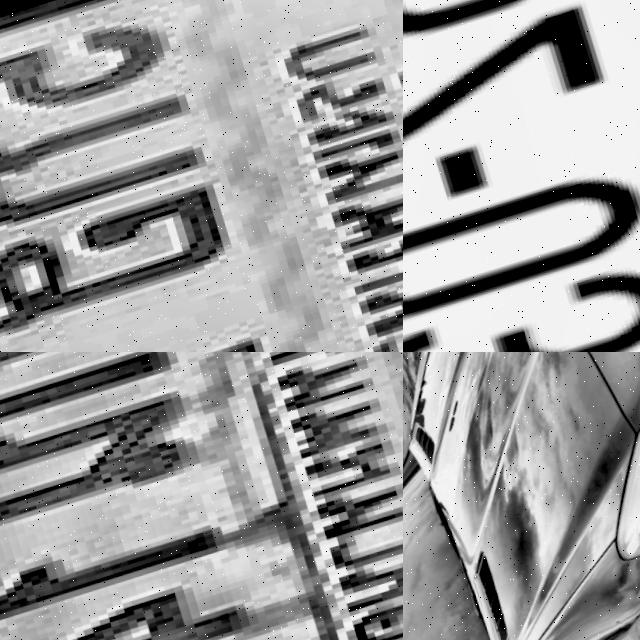license-plate: (0, 0, 403, 352), (0, 352, 403, 640), (403, 0, 640, 352)
